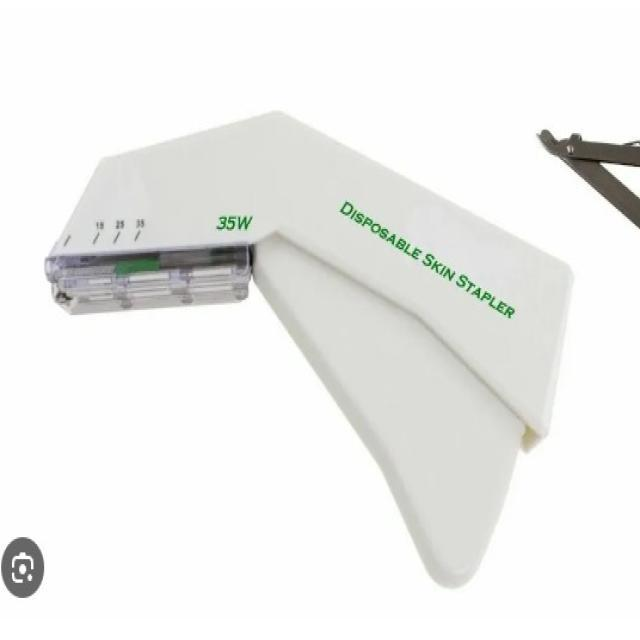Skin Stapler: (46, 110, 576, 594)
